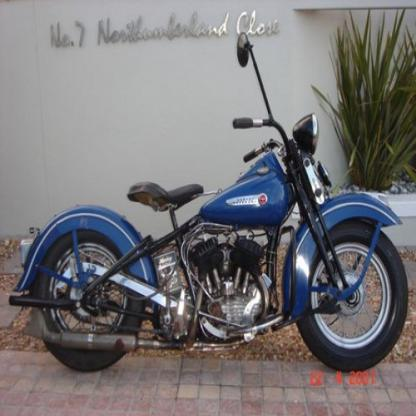motorbike: (12, 112, 410, 375)
pottedplant: (310, 9, 416, 192)
